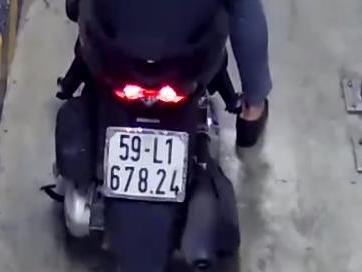num_plate: (104, 126, 189, 200)
